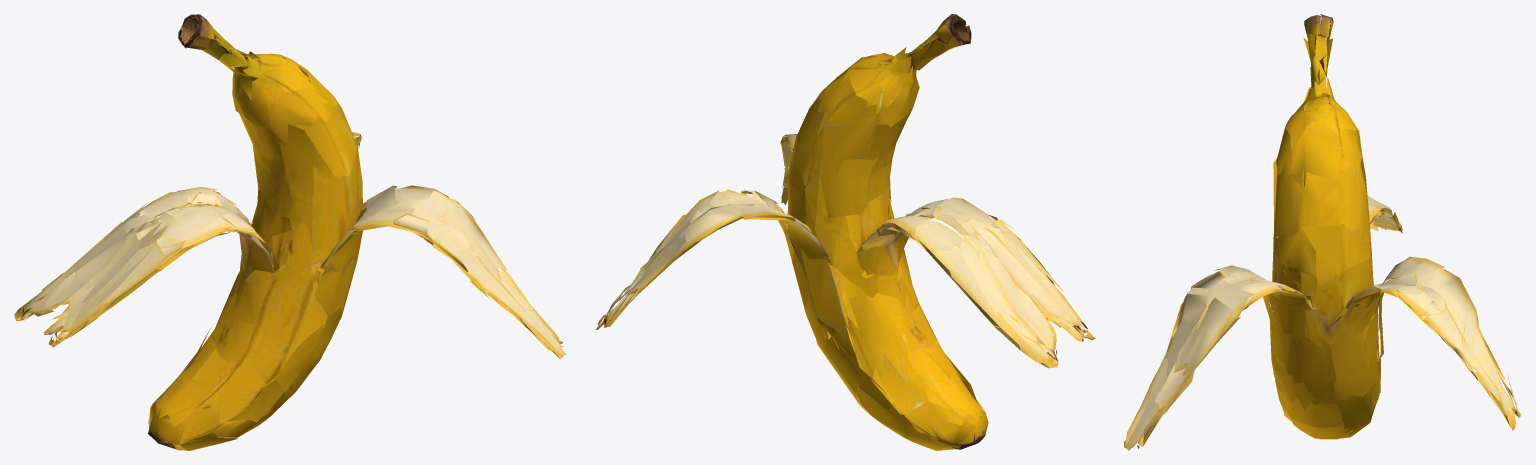
Rendered from banana.glb.
The picture shows the model from 3 angles, left to right: view 1: azimuth 30°, elevation 25°; view 2: azimuth 150°, elevation 25°; view 3: azimuth 270°, elevation 25°; orthographic projection. The views are drawn at different scales.
Parts seen in each view (by area): view 1: Mesh_0; view 2: Mesh_0; view 3: Mesh_0.
Boxes of the visible parts, x1,y1,x2,y2 form: Mesh_0: (14, 14, 566, 450); Mesh_0: (596, 14, 1095, 450); Mesh_0: (1124, 14, 1521, 450).
Size of the model in its own units: 0.4993 by 0.4984 by 0.434.
Materials: 1 (1 with a texture image).
